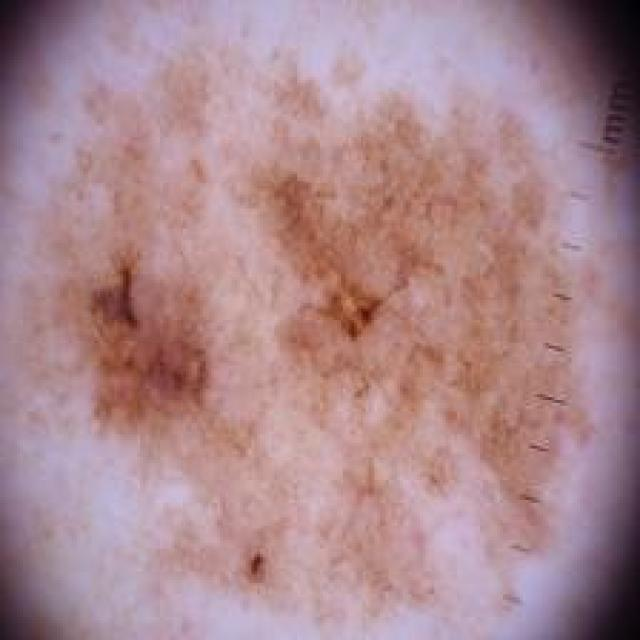Cancer: (59, 133, 566, 470)
